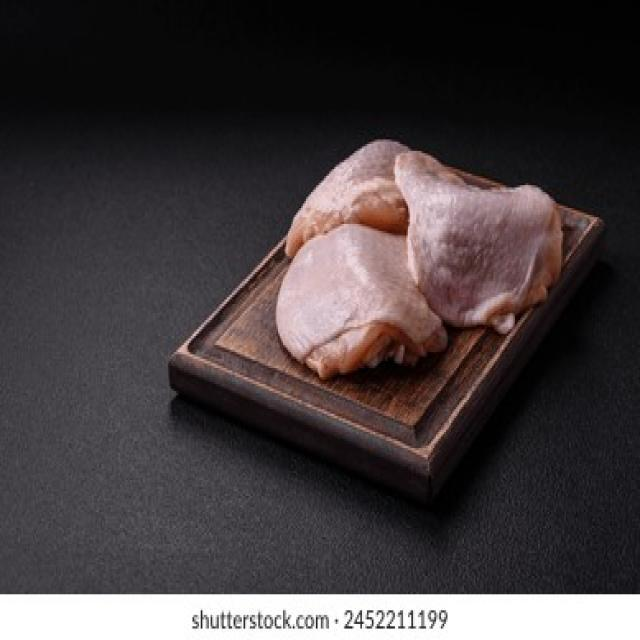thigh: (275, 234, 450, 401), (416, 168, 566, 328), (279, 132, 433, 260)
